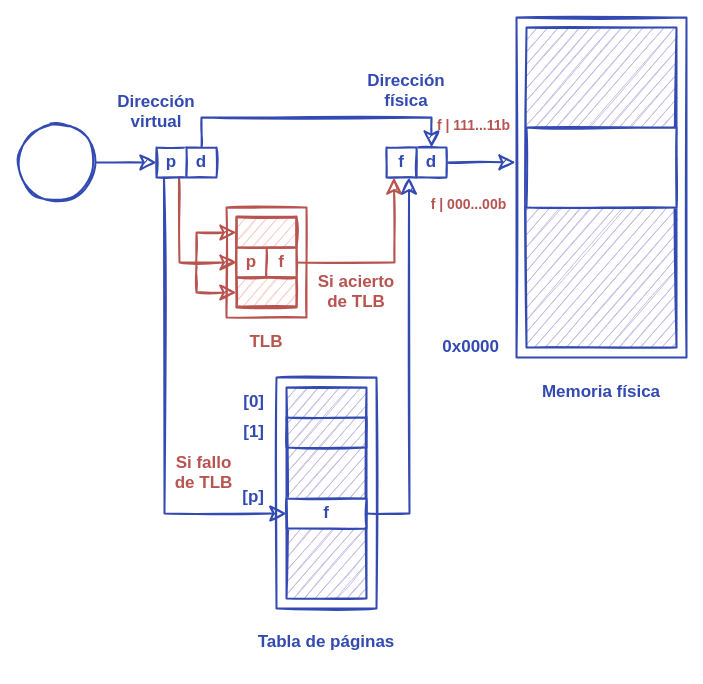
This 703x684 diagram has some shape labels left out. Here are the shapes that lost their labels. From the top down, the centre of each, then its label:
At point 56,162: "CPU".
At point 601,167: "Datos de la página p".
